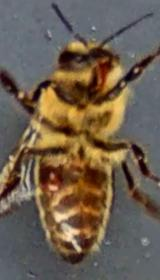varroa_mite: (37, 160, 68, 196)
